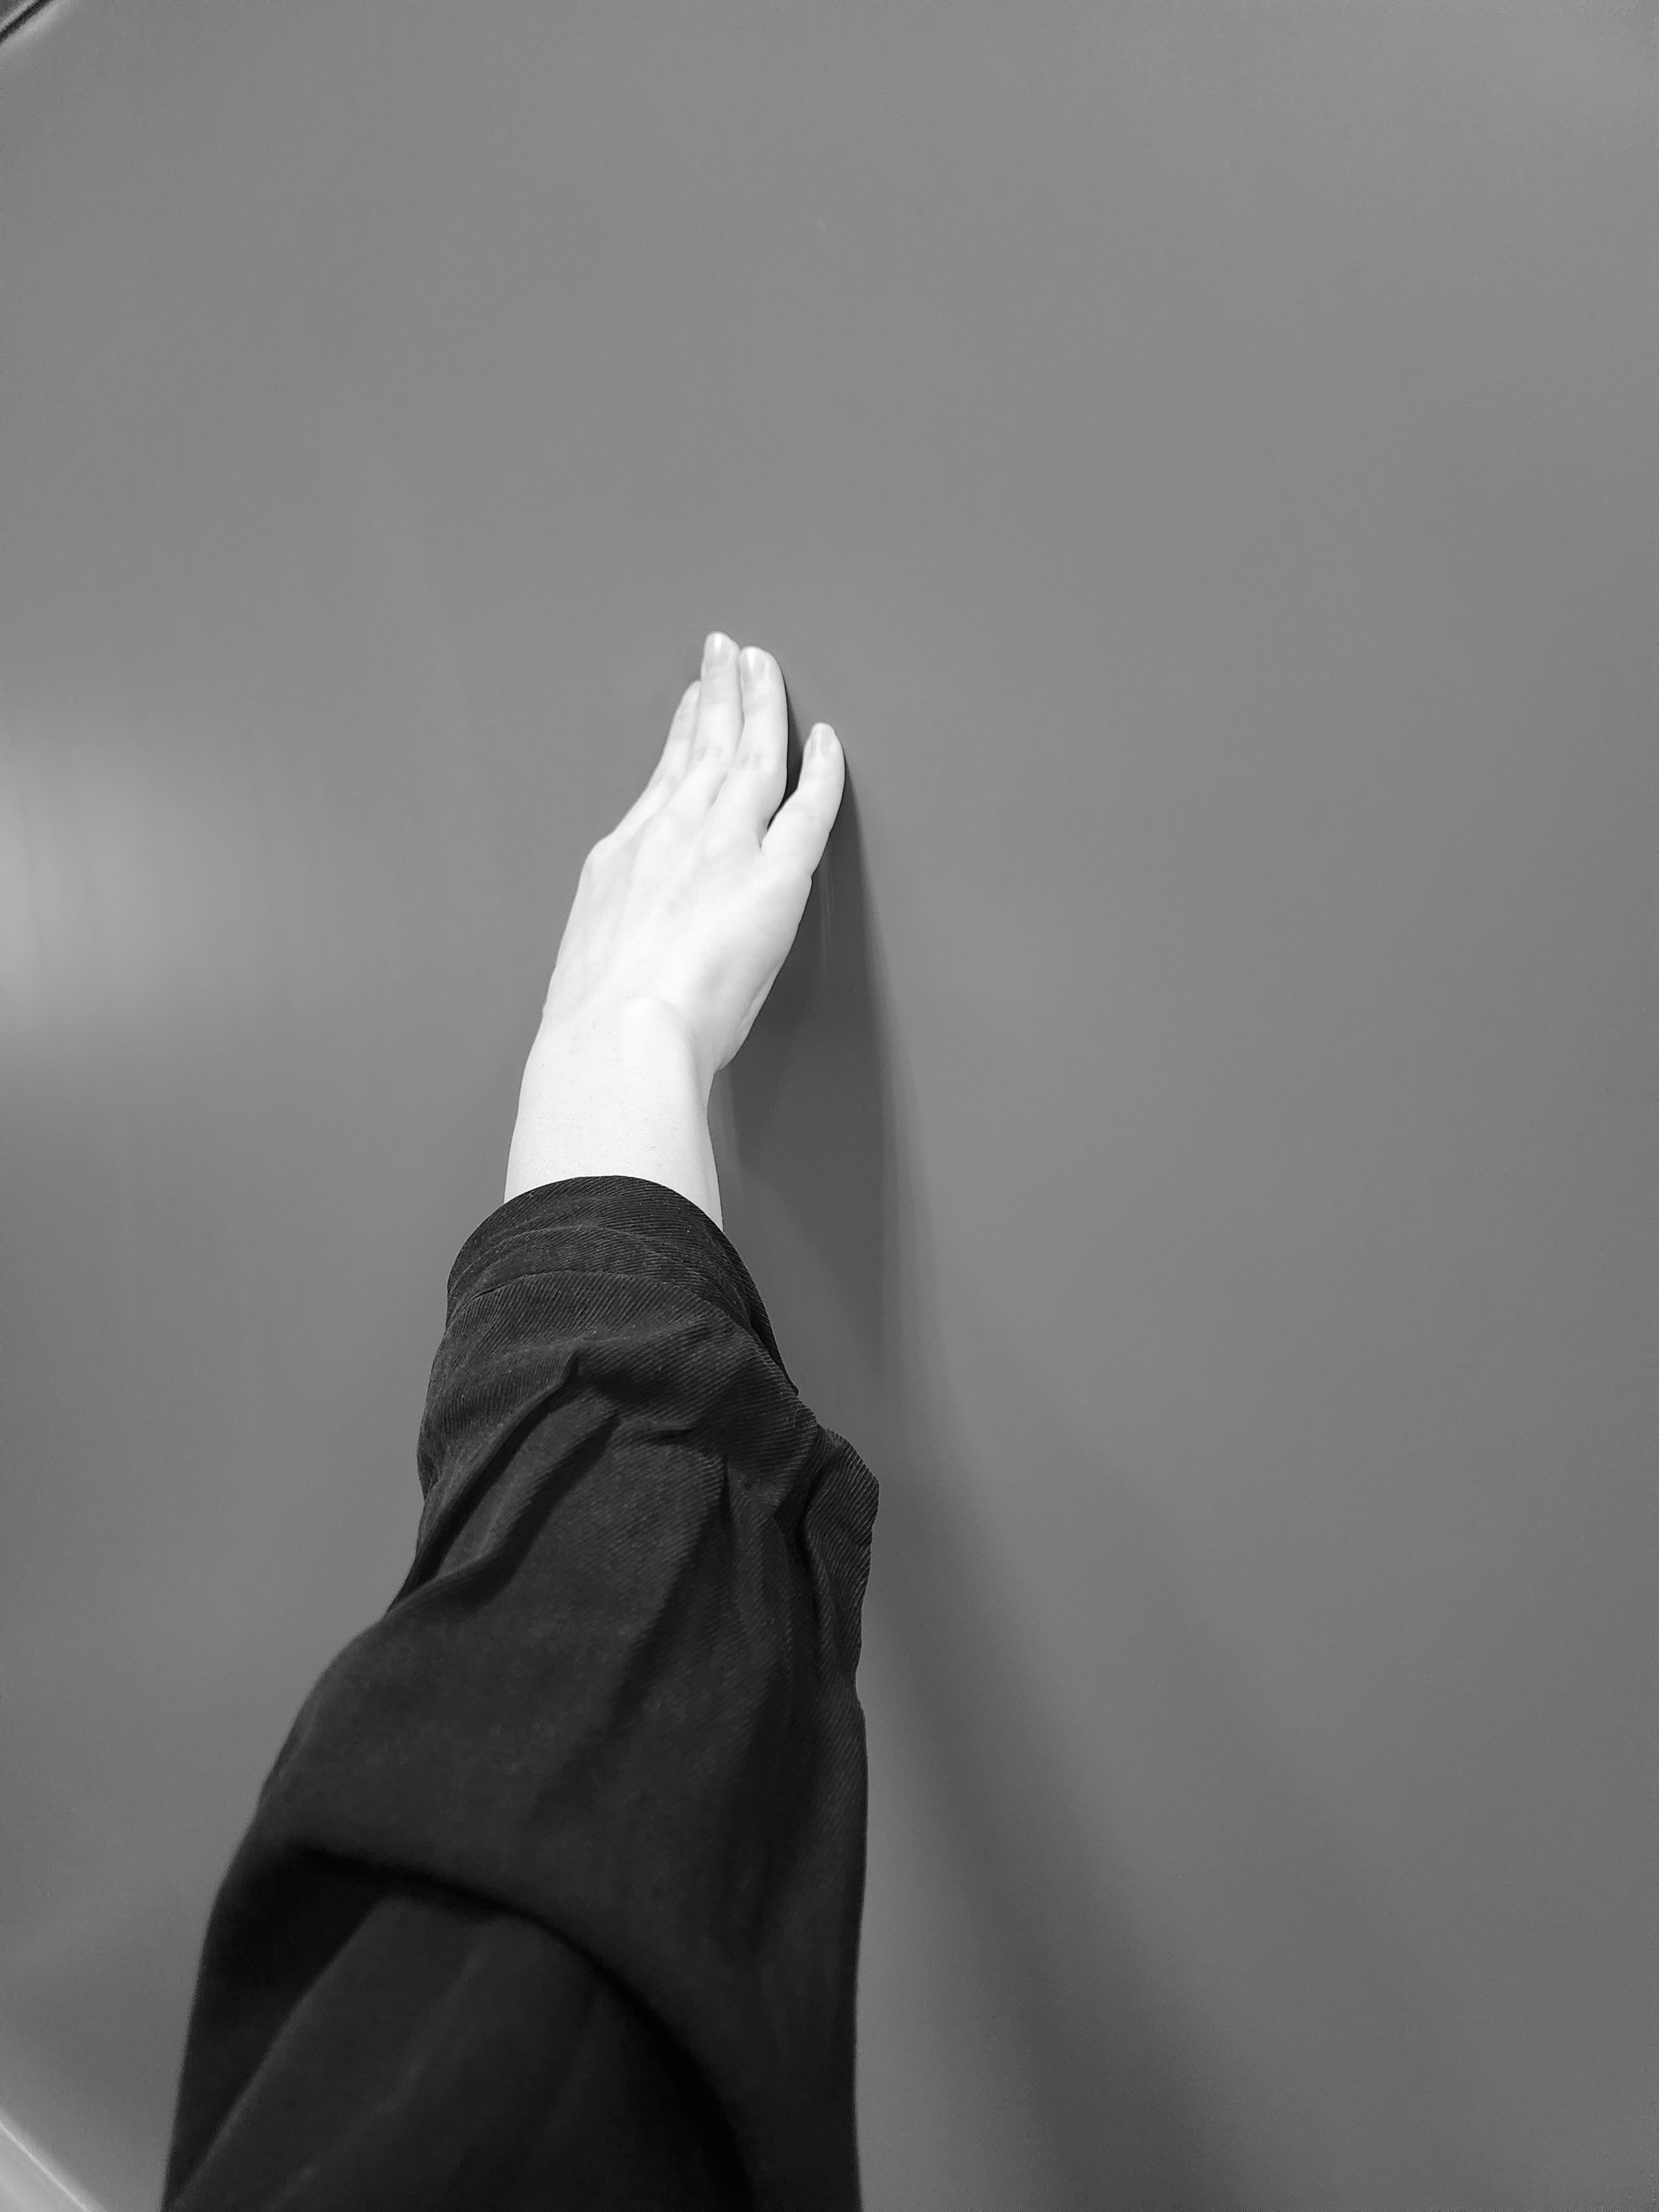pointing_gesture: (518, 632, 852, 1113)
